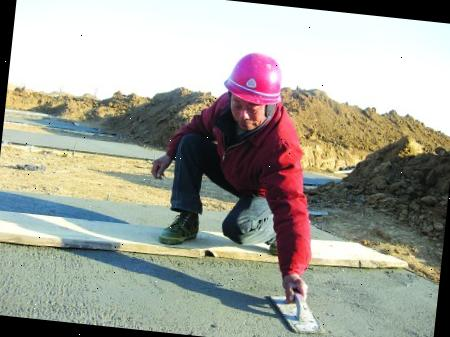helmet: (223, 47, 290, 104)
no_wear: (208, 99, 301, 195)
